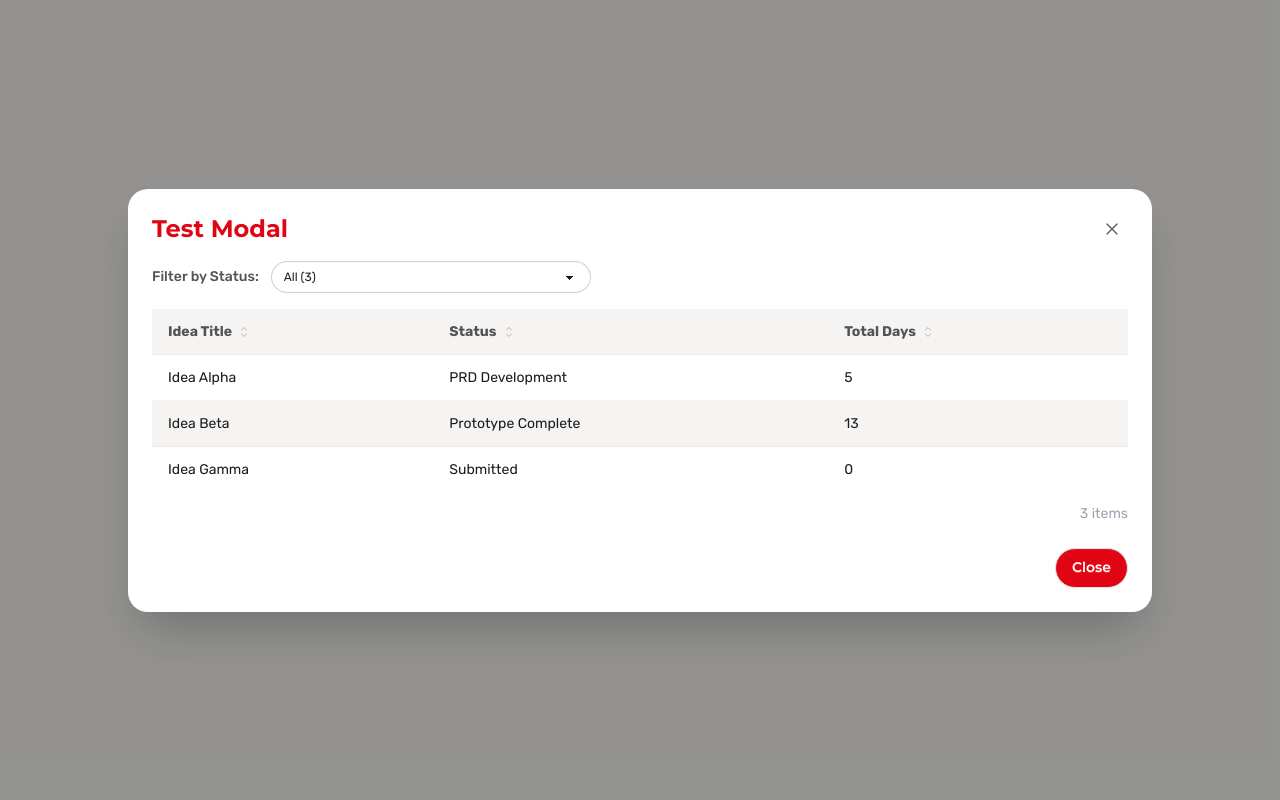
DrillDownModal › should sort data descending when column header is clicked twice
// Click twice for descending
Click the column heading "Total Days".
click(978, 332)  # box x1=828 y1=308 x2=1128 y2=354
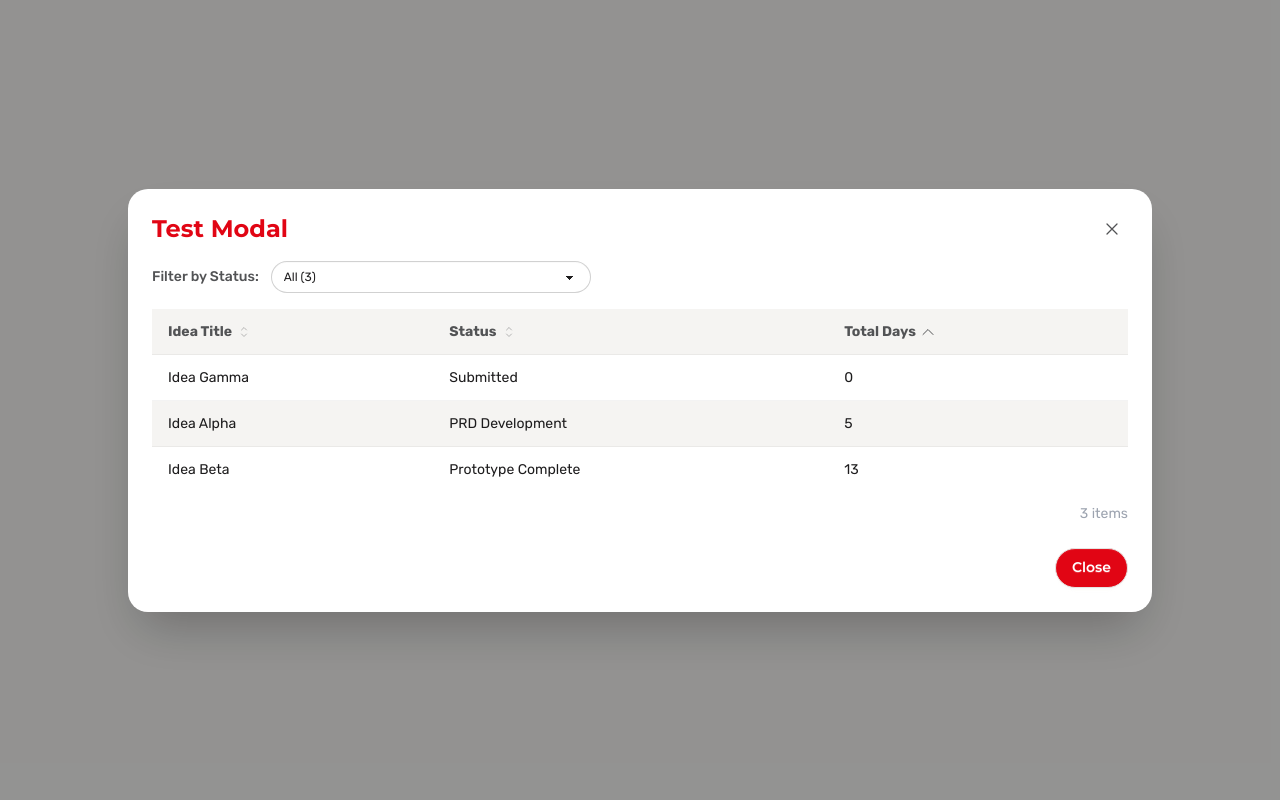
Click the column heading "Total Days".
click(978, 332)  # box x1=828 y1=308 x2=1128 y2=354
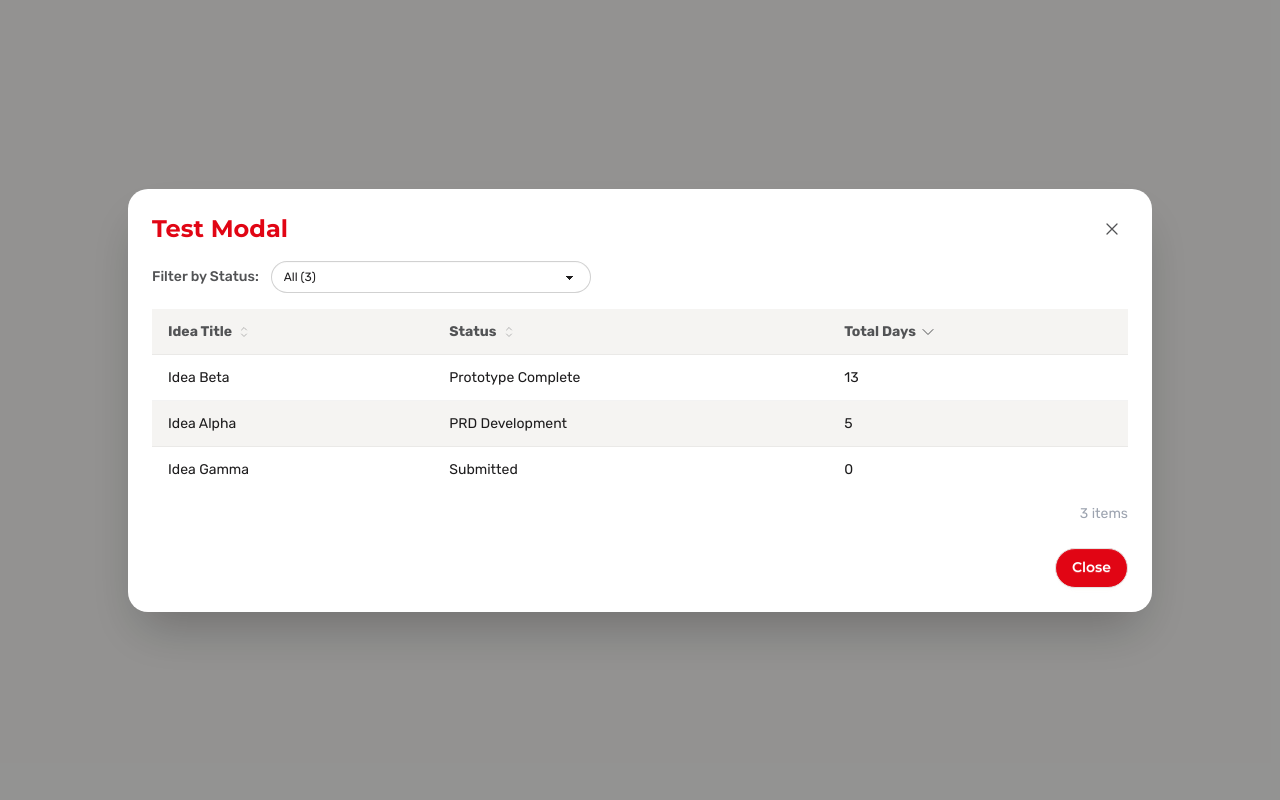
Now the row "Idea Beta Prototype Complete 13" is shown, box x1=152 y1=354 x2=1128 y2=400
